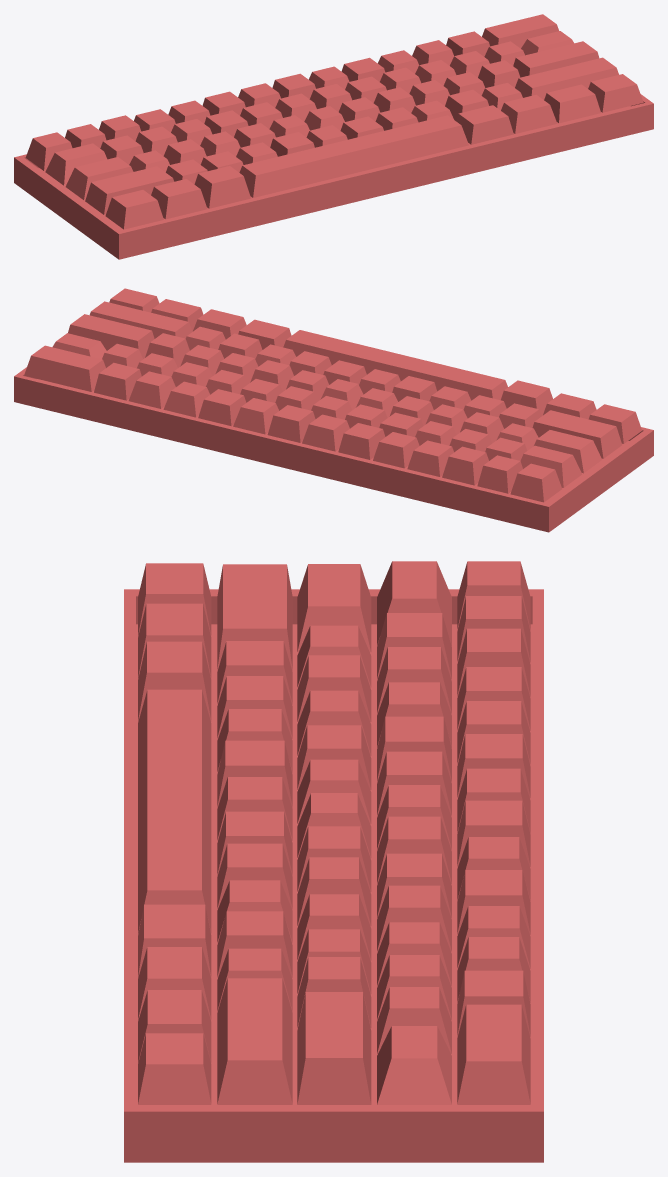
Rendered from keyboard.glb.
The picture shows the model from 3 angles, top to bottom: view 1: azimuth 30°, elevation 25°; view 2: azimuth 150°, elevation 25°; view 3: azimuth 270°, elevation 25°; orthographic projection. The views are drawn at different scales.
Visible parts, largest first — view 1: keyboard; view 2: keyboard; view 3: keyboard.
Part boxes in pixels (x1,y1,x2,y2): keyboard: [14, 14, 653, 259]; keyboard: [14, 288, 653, 532]; keyboard: [124, 561, 543, 1162].
Size of the model in its own units: 23.79 by 2.03 by 8.09.
